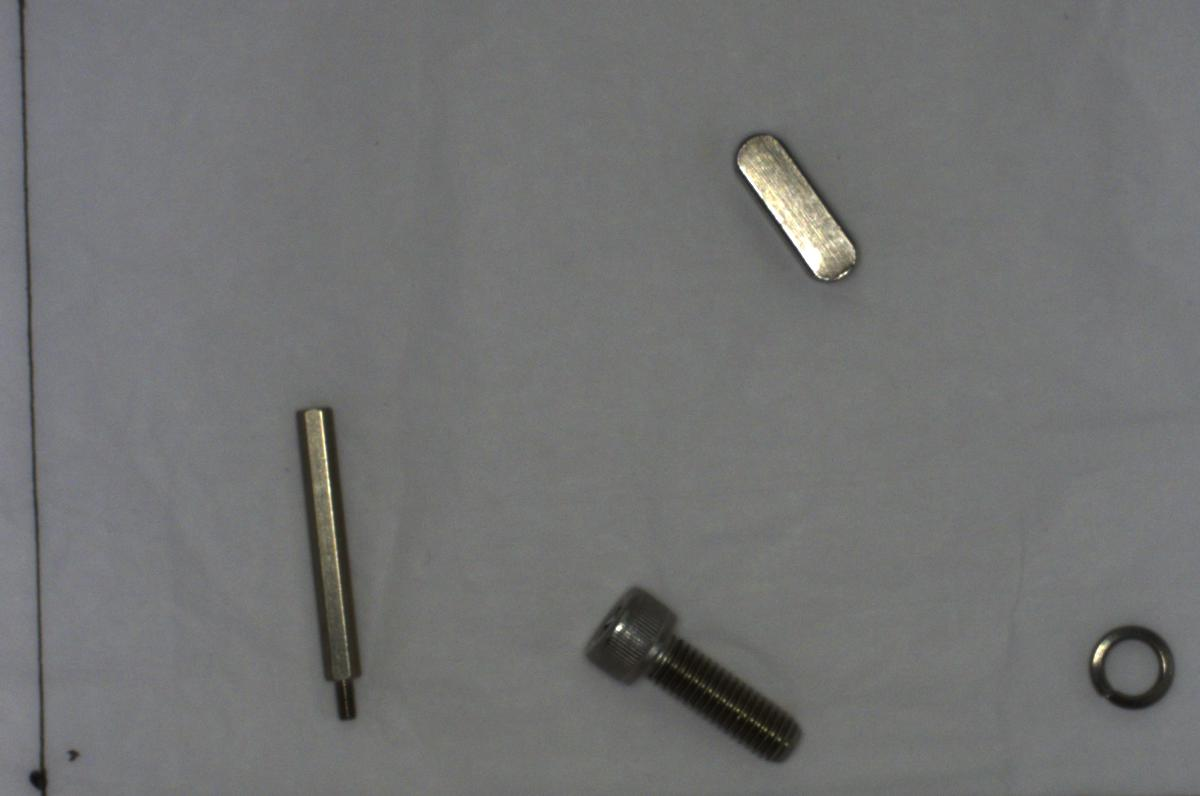Hexagon screw: (566, 570, 812, 767)
Hexagonal steel column: (280, 392, 379, 735)
Keybar: (727, 121, 866, 288)
Spring washer: (1078, 613, 1180, 715)
